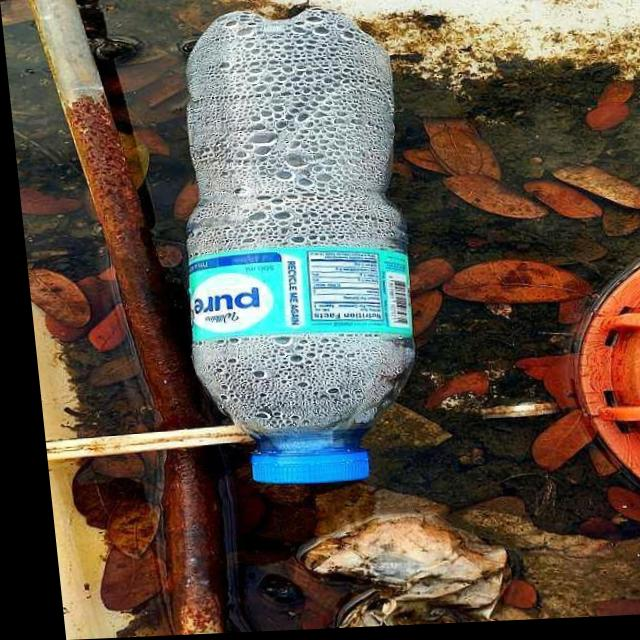Non-biodegradable: (158, 7, 424, 494)
